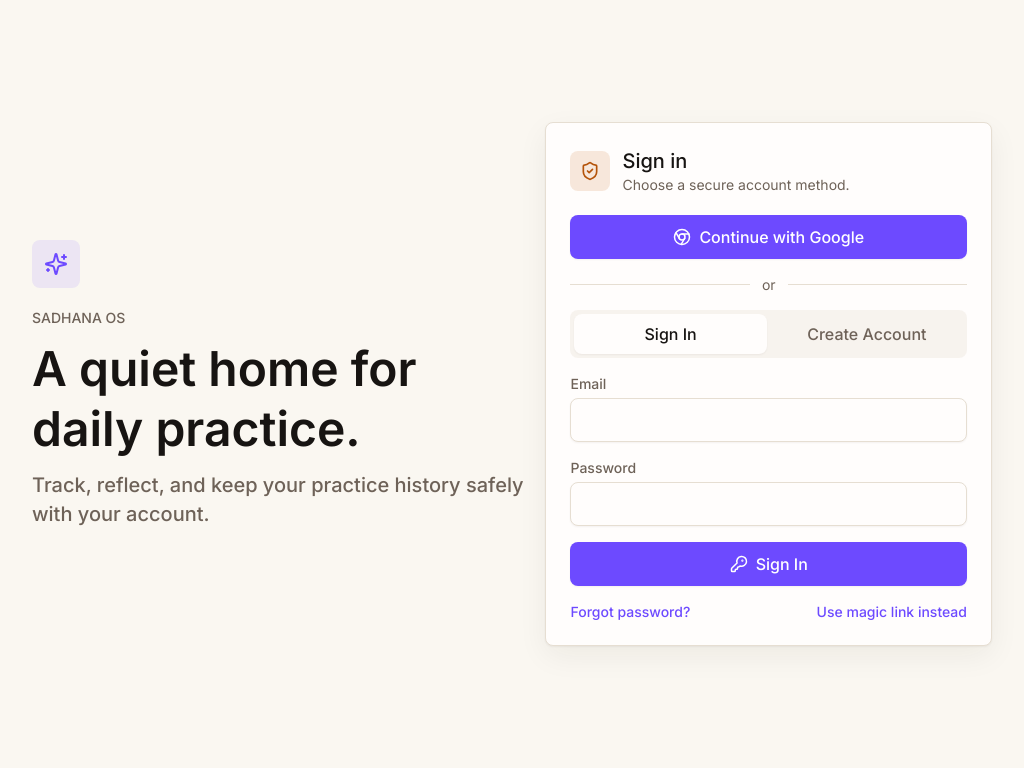
Scenario: AuthScreen › shows a clear fallback message when Google OAuth is not configured
Click the button "Continue with Google".
click(769, 237)  # box [570,215,967,259]
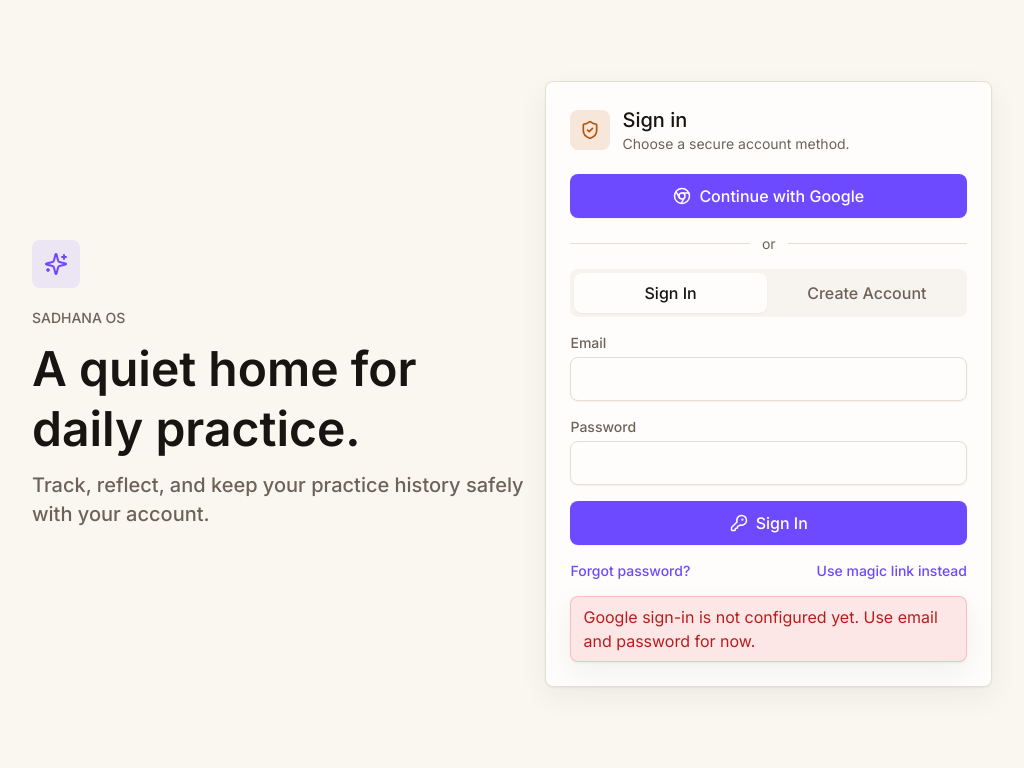
Expected: the message reads "Google sign-in is not configured yet. Use email and password for now.", [584,607,938,651]
